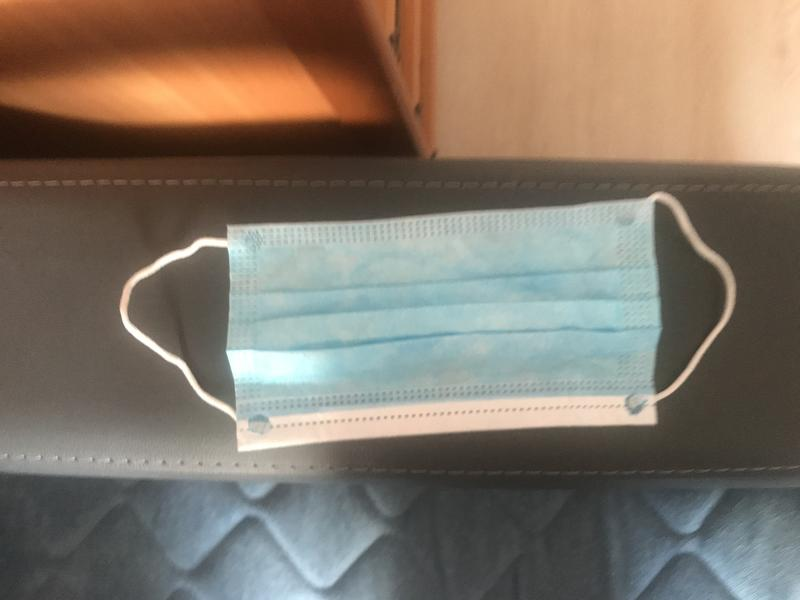medical_mask: (120, 189, 737, 451)
